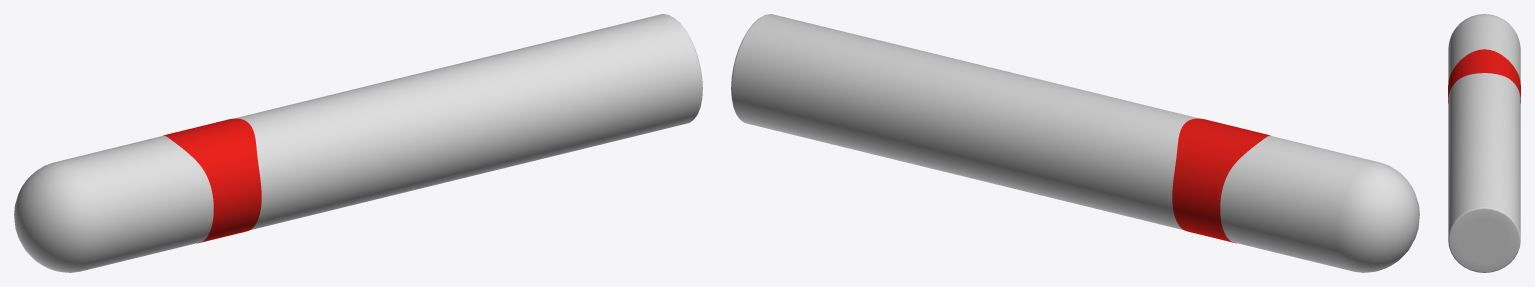
File: cigarro.fbx
3 views of the same model, side by side, from view 1: azimuth 30°, elevation 25°; view 2: azimuth 150°, elevation 25°; view 3: azimuth 270°, elevation 25° (orthographic). The views are drawn at different scales.
Parts seen in each view (by area): view 1: cigar cuban, label; view 2: cigar cuban, label; view 3: cigar cuban, label.
Boxes of the visible parts, left/top/right/bottom form: cigar cuban: left=14, top=14, right=702, bottom=272; label: left=163, top=118, right=261, bottom=243; cigar cuban: left=731, top=14, right=1419, bottom=272; label: left=1172, top=118, right=1270, bottom=243; cigar cuban: left=1448, top=14, right=1520, bottom=272; label: left=1448, top=49, right=1520, bottom=103.
Size of the model in its own units: 110 by 16.57 by 16.57.
